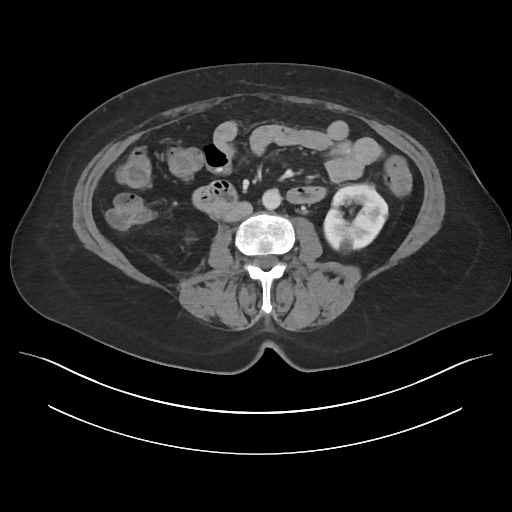Lesion: (336, 232, 356, 256)
